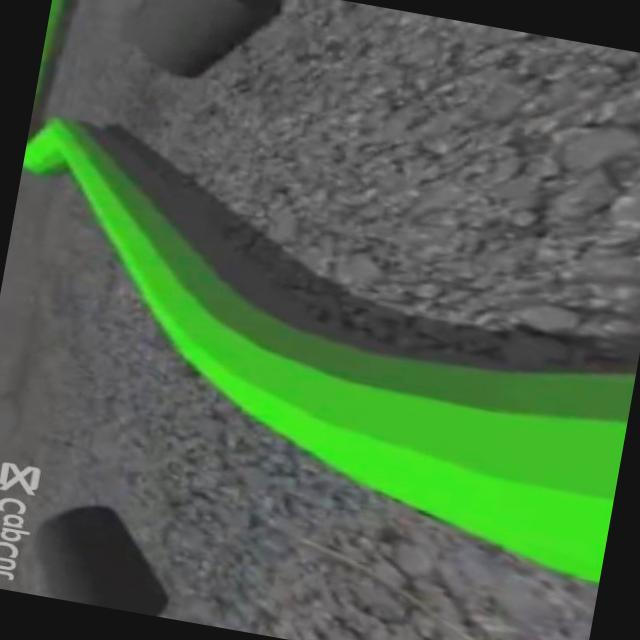gas: (24, 155, 640, 587)
